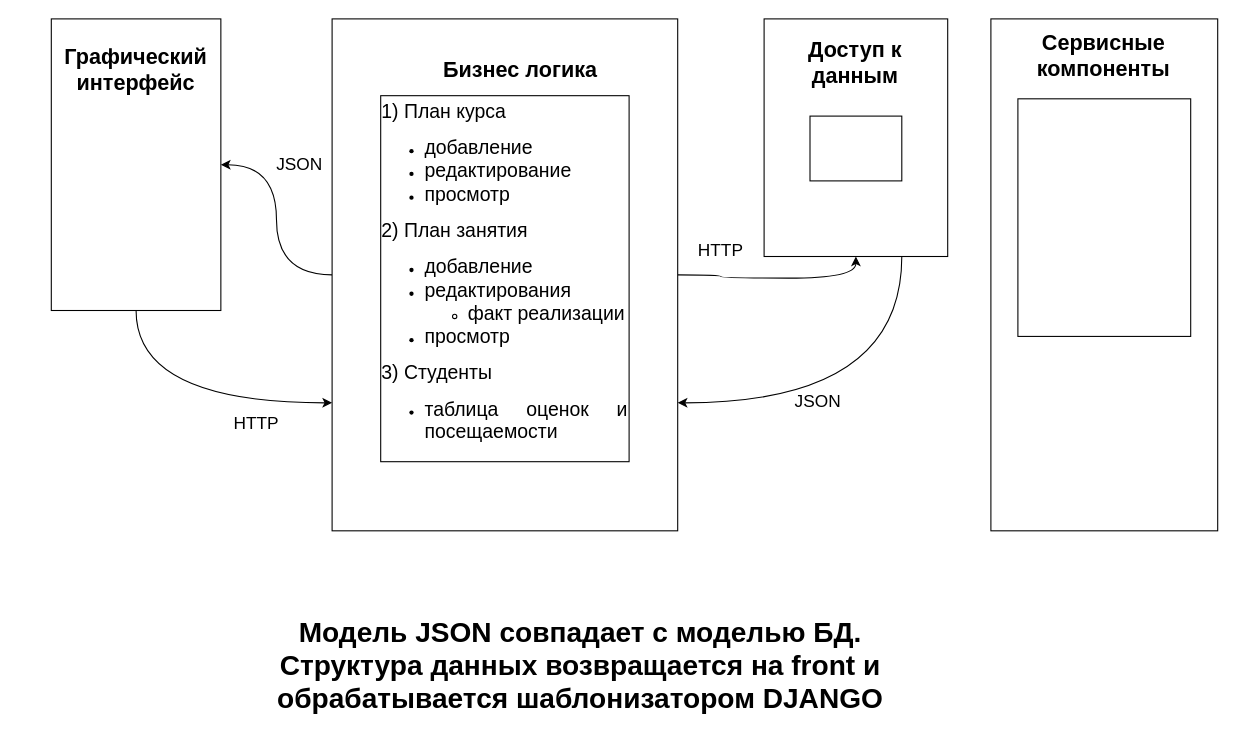
Some shapes in this 1237 by 755 pixel diagram are drawn without their labels. Here are the shapes that lost their labels. From the top down, the centre of each, then its label:
At point (855, 148): "БД".
At point (1104, 217): "Генерация запросов к БД Обработка ошибок Обработка запросов".
